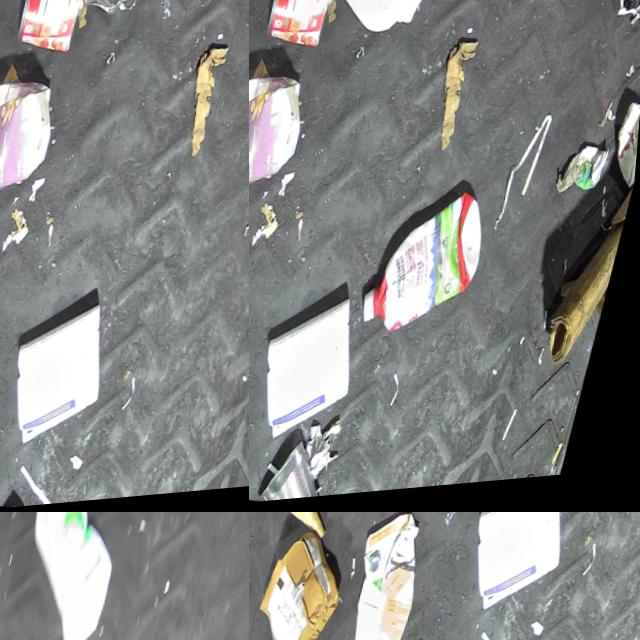can: (267, 438, 347, 507), (11, 0, 92, 64), (261, 0, 342, 58), (609, 110, 640, 201), (74, 0, 147, 27)
milk_jug: (0, 512, 141, 640), (311, 0, 457, 51)
non_white_jug: (362, 185, 501, 354), (343, 512, 441, 640), (249, 58, 317, 228), (0, 64, 67, 234)
